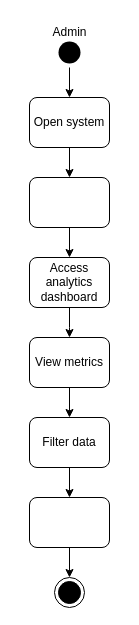
This 139x625 diagram has some shape labels left out. The centre of each missing label's shape, as x and y in pixels:
"Download reports" goes at pixel 69 522.
"Login" goes at pixel 69 202.
